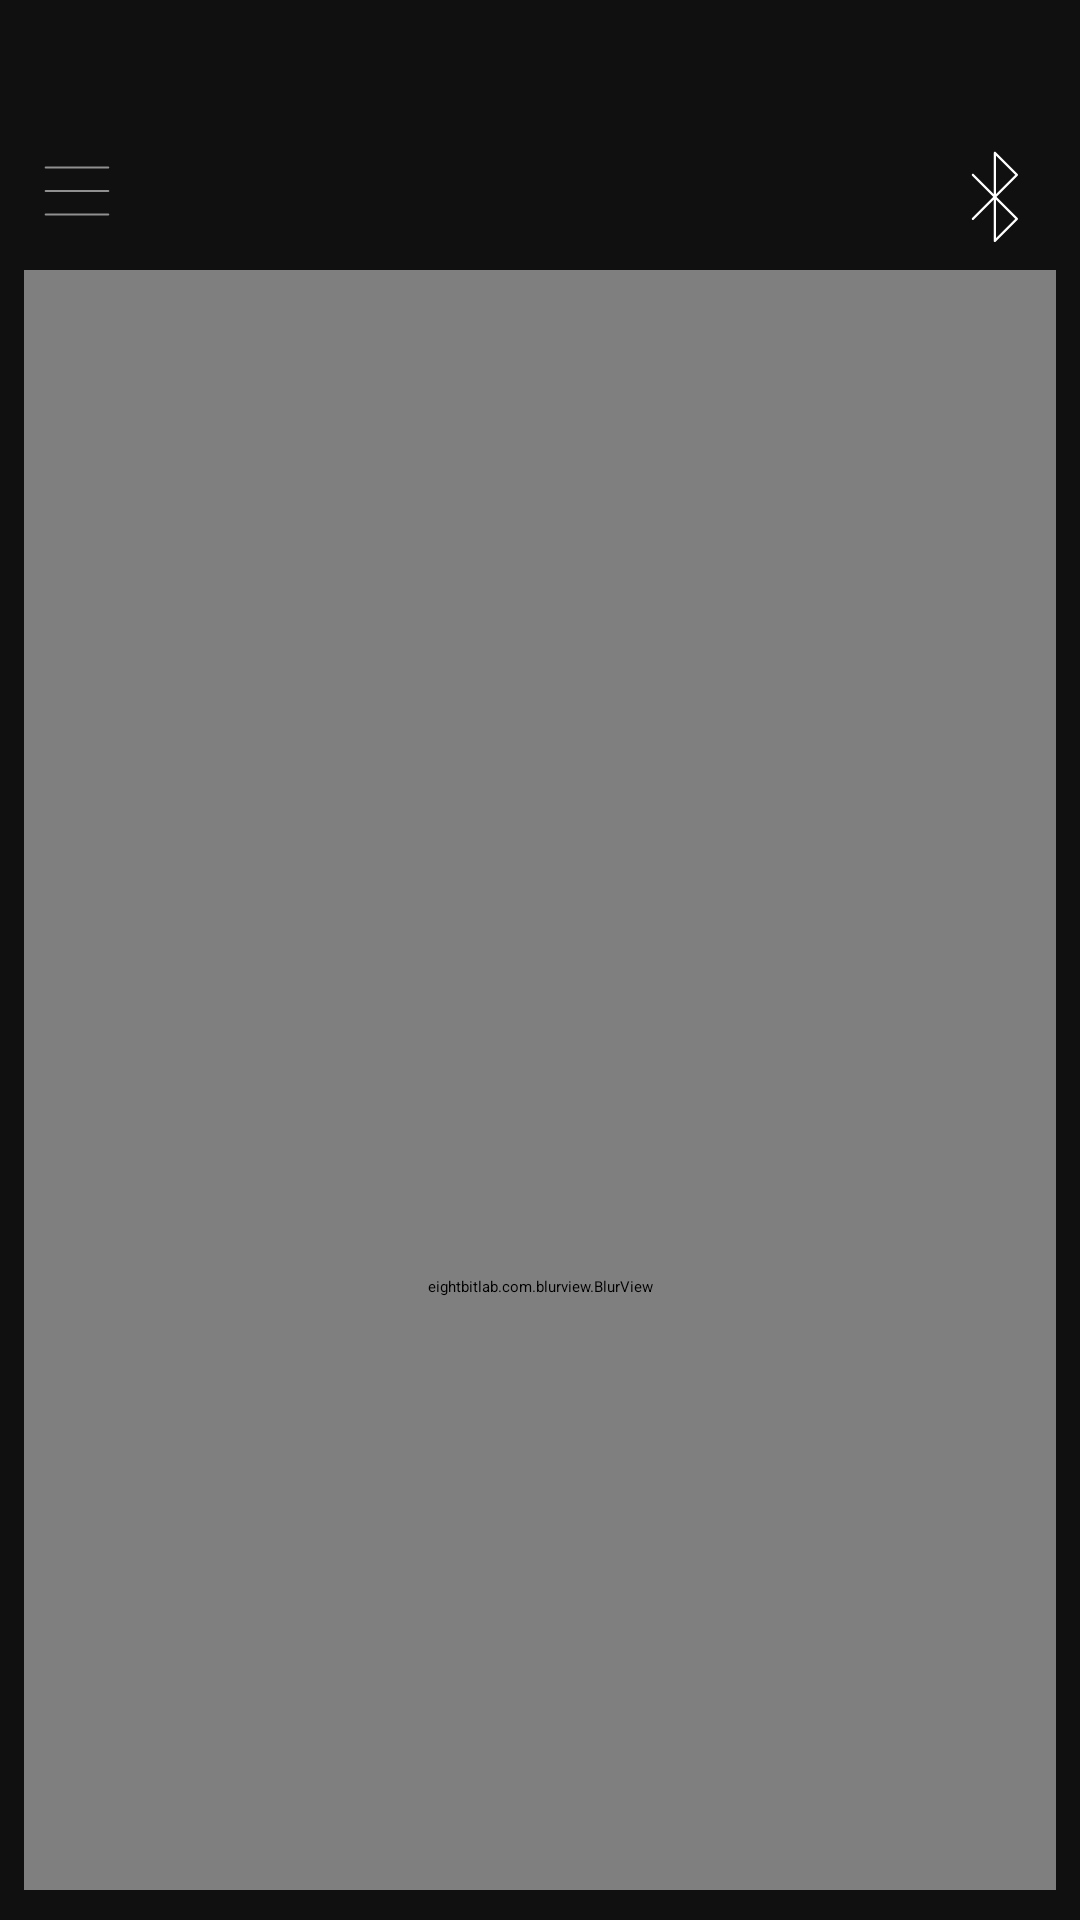

Icons on this 1080px x 1920px Android screen, each with its box as (x1, y1, x2, y2):
sidebar menu: (44, 166, 110, 216)
